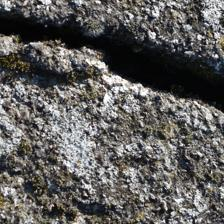Crack: (3, 3, 218, 115)
